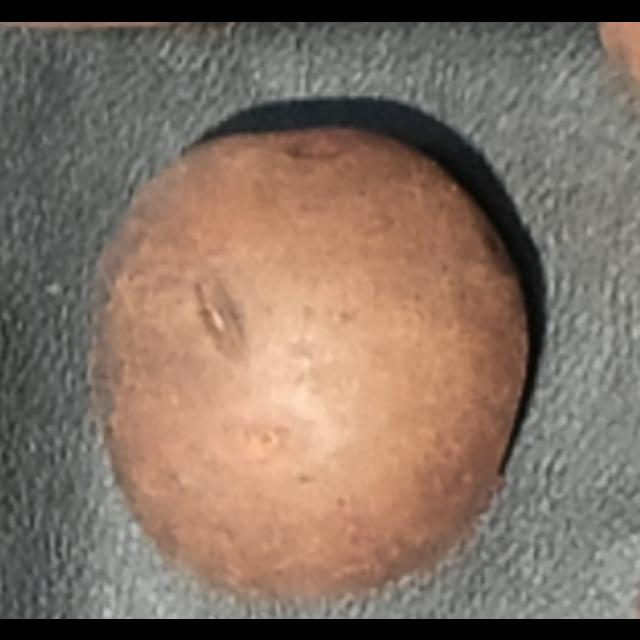Diseased-fungal potato: (82, 106, 536, 604)
